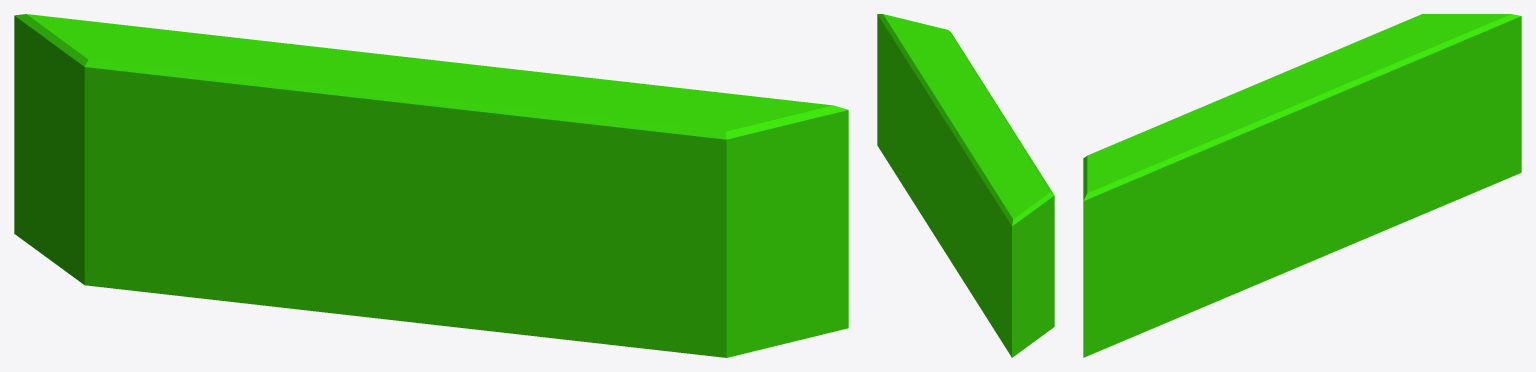
Rendered from diagonal_5x2.fbx.
The picture shows the model from 3 angles, left to right: view 1: azimuth 30°, elevation 25°; view 2: azimuth 150°, elevation 25°; view 3: azimuth 270°, elevation 25°; orthographic projection. The views are drawn at different scales.
Visible parts, largest first — view 1: diagonal_5x2; view 2: diagonal_5x2; view 3: diagonal_5x2.
Boxes of the visible parts, x1=… form: diagonal_5x2: x1=14, y1=14, x2=848, y2=357; diagonal_5x2: x1=877, y1=14, x2=1054, y2=357; diagonal_5x2: x1=1083, y1=14, x2=1521, y2=357.
Bounding box in the file's own units: 520 × 210 × 520.
